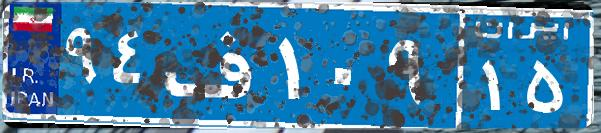0: (330, 28, 385, 110)
1: (273, 28, 330, 110), (475, 38, 525, 113)
4: (110, 28, 158, 105)
5: (525, 38, 570, 115)
9: (385, 28, 445, 110), (57, 26, 110, 107)
ف: (158, 15, 273, 115)
